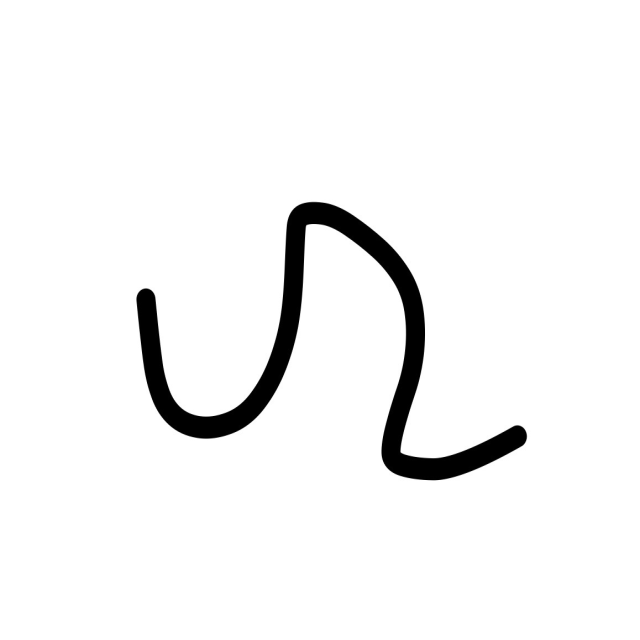ohms: (99, 67, 546, 544)
